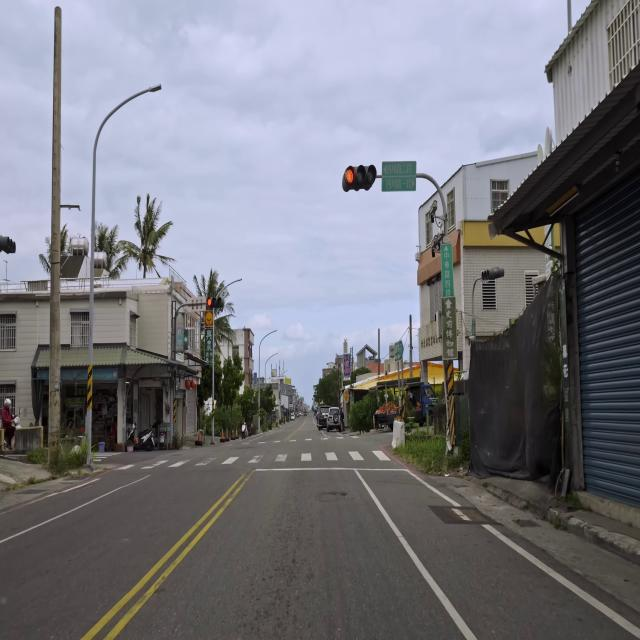red light: (342, 165, 376, 190), (206, 297, 225, 308)
